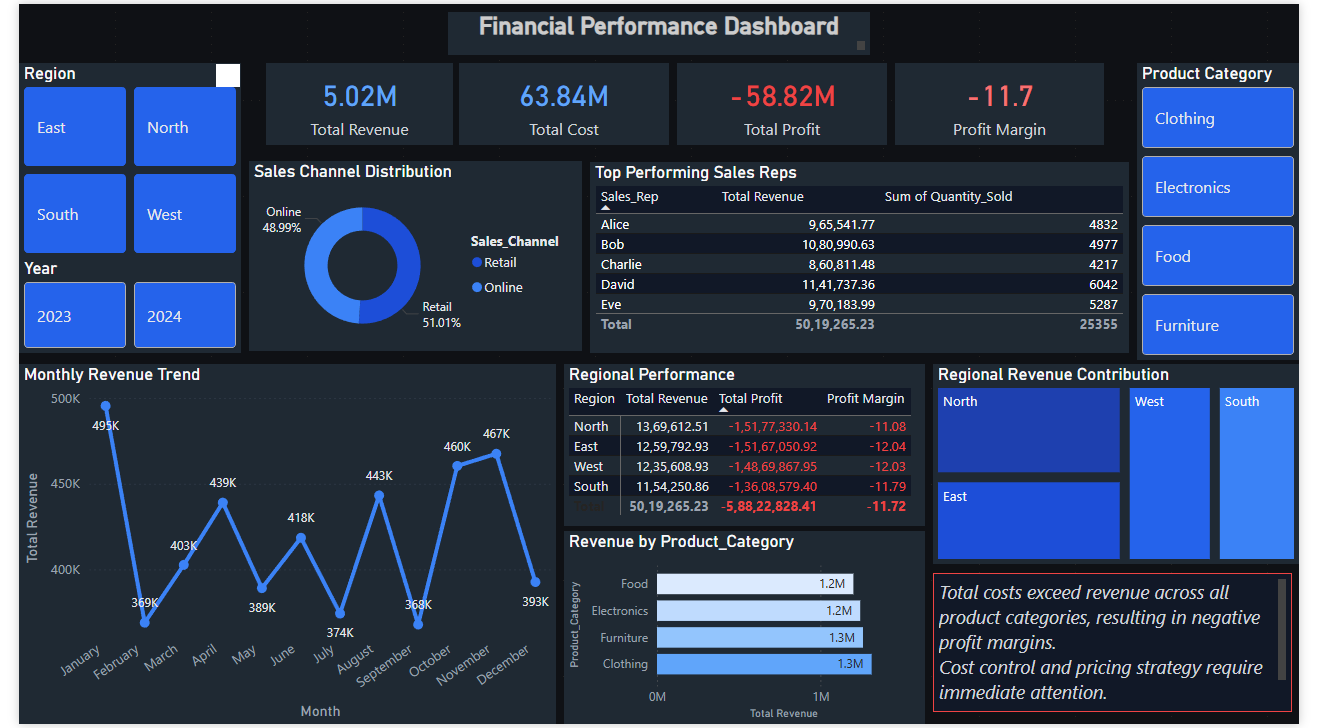

What the dashboard file says about the page in this screenshot:
{"tool":"powerbi","page":{"name":"Page 1","canvas":[1280,720],"ordinal":0},"visuals":[{"type":"card","fields":{"Values":["sales_data.Total Revenue"]},"box":[247.2,58.9,187.5,81.5],"z":0,"group":"g1"},{"type":"lineChart","title":"Monthly Revenue Trend","fields":{"Y":["sales_data.Total Revenue"],"Category":["sales_data.Sale_Date.Variation.Date Hierarchy.Month"]},"box":[0,360.5,537.1,359.5],"z":0},{"type":"card","fields":{"Values":["sales_data.Total Profit"]},"box":[658.5,58.6,210.1,81.8],"z":1000,"group":"g1"},{"type":"advancedSlicerVisual","fields":{"Values":["sales_data.Region"]},"box":[0,58.9,221.9,194.7],"z":1000},{"type":"advancedSlicerVisual","fields":{"Values":["sales_data.Sale_Date.Variation.Date Hierarchy.Year"]},"box":[0,253.6,221.9,95.1],"z":2000},{"type":"card","fields":{"Values":["sales_data.Total Cost"]},"box":[440.4,58.6,210.1,81.8],"z":3000,"group":"g1"},{"type":"barChart","title":"Revenue by Product_Category","fields":{"Y":["sales_data.Total Revenue"],"Category":["sales_data.Product_Category"]},"box":[545.2,527.1,360.5,192.9],"z":3000},{"type":"donutChart","title":"Sales Channel Distribution","fields":{"Category":["sales_data.Sales_Channel"],"Y":["sales_data.Total Revenue"]},"box":[230.3,156.6,332.3,190.9],"z":4000},{"type":"card","fields":{"Values":["sales_data.Profit Margin"]},"box":[875.7,58.6,209.1,81.8],"z":5000,"group":"g1"},{"type":"pivotTable","title":"Regional Performance","fields":{"Rows":["sales_data.Region"],"Values":["sales_data.Total Revenue","sales_data.Total Profit","sales_data.Profit Margin"]},"box":[545.2,360.5,360.5,161.2],"z":5000},{"type":"tableEx","title":"Top Performing Sales Reps","fields":{"Values":["sales_data.Sales_Rep","sales_data.Total Revenue","sales_data.Quantity_Sold"]},"box":[570.6,157.6,539.8,191.1],"z":6000},{"type":"textbox","title":"Financial Performance Dashboard","box":[429.3,8.2,422,42.6],"z":7000},{"type":"treemap","title":"Regional Revenue Contribution","fields":{"Values":["sales_data.Total Revenue"],"Group":["sales_data.Region"]},"box":[913.8,360.5,365.9,199.2],"z":8000},{"type":"advancedSlicerVisual","title":"Product Category","fields":{"Values":["sales_data.Product_Category"]},"box":[1118.5,58.9,161.2,297.1],"z":9000},{"type":"textbox","box":[914.1,568.7,358.6,139.4],"z":10000},{"type":"group","id":"g1","title":"Group 1","box":[247.2,58.6,837.6,81.8],"z":11000}]}

Visuals, with their boxes in screenshot pixels (x1, y1, x2, y2), scaled from the page's 1280x720 canvas onto the 1317x728 screenshot:
card - sales_data.Total Revenue: <region>254, 60, 447, 142</region>
"Monthly Revenue Trend" lineChart: <region>0, 365, 553, 727</region>
card - sales_data.Total Profit: <region>678, 59, 894, 142</region>
advancedSlicerVisual - sales_data.Region: <region>0, 60, 228, 256</region>
advancedSlicerVisual - sales_data.Sale_Date.Variation.Date Hierarchy.Year: <region>0, 256, 228, 353</region>
card - sales_data.Total Cost: <region>453, 59, 669, 142</region>
"Revenue by Product_Category" barChart: <region>561, 533, 932, 727</region>
"Sales Channel Distribution" donutChart: <region>237, 158, 579, 351</region>
card - sales_data.Profit Margin: <region>901, 59, 1116, 142</region>
"Regional Performance" pivotTable: <region>561, 365, 932, 527</region>
"Top Performing Sales Reps" tableEx: <region>587, 159, 1142, 353</region>
"Financial Performance Dashboard" textbox: <region>442, 8, 876, 51</region>
"Regional Revenue Contribution" treemap: <region>940, 365, 1316, 566</region>
"Product Category" advancedSlicerVisual: <region>1151, 60, 1316, 360</region>
textbox: <region>941, 575, 1309, 716</region>
"Group 1" group: <region>254, 59, 1116, 142</region>
